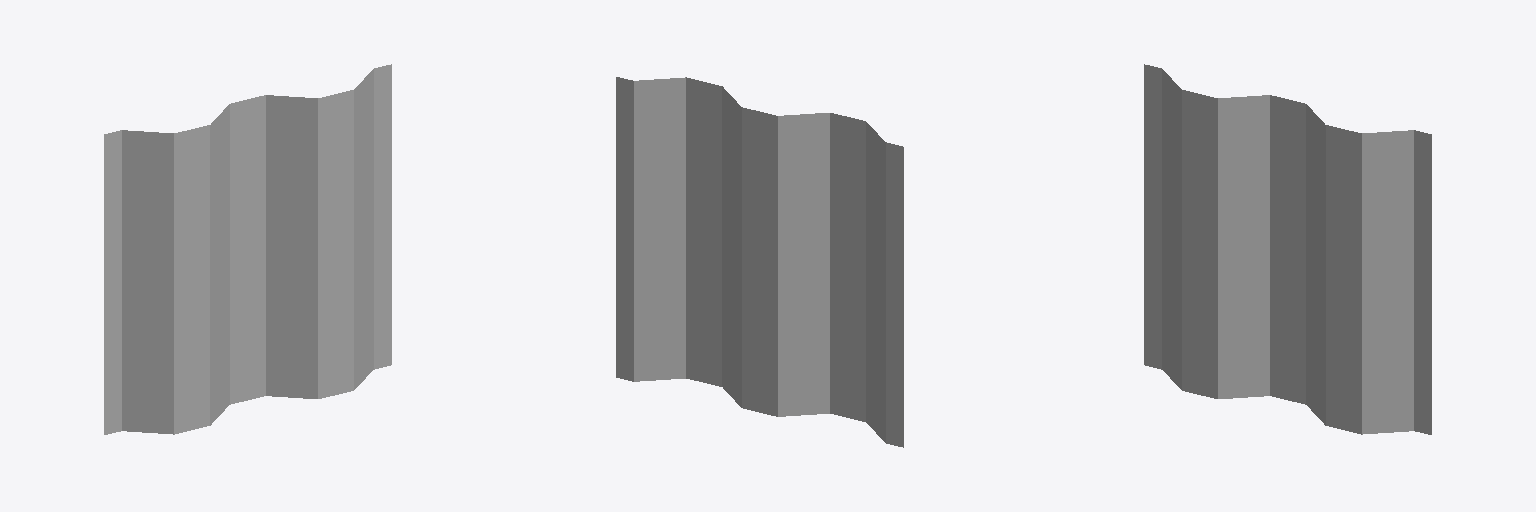
File: Straight_Edge_Wall.obj
3 views of the same model, side by side, from view 1: azimuth 30°, elevation 25°; view 2: azimuth 150°, elevation 25°; view 3: azimuth 330°, elevation 25° (orthographic).
Visible parts, largest first — view 1: Straight_Edge_Wall; view 2: Straight_Edge_Wall; view 3: Straight_Edge_Wall.
Boxes of the visible parts, box(x1,y1,x2,y2) form: Straight_Edge_Wall: box(104, 64, 391, 434); Straight_Edge_Wall: box(616, 77, 903, 447); Straight_Edge_Wall: box(1144, 64, 1431, 434).
Bounding box in the file's own units: 1 × 1 × 0.1.